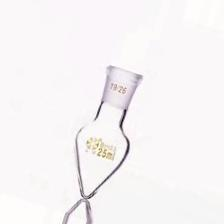Pear shaped flask: (61, 57, 149, 200)
